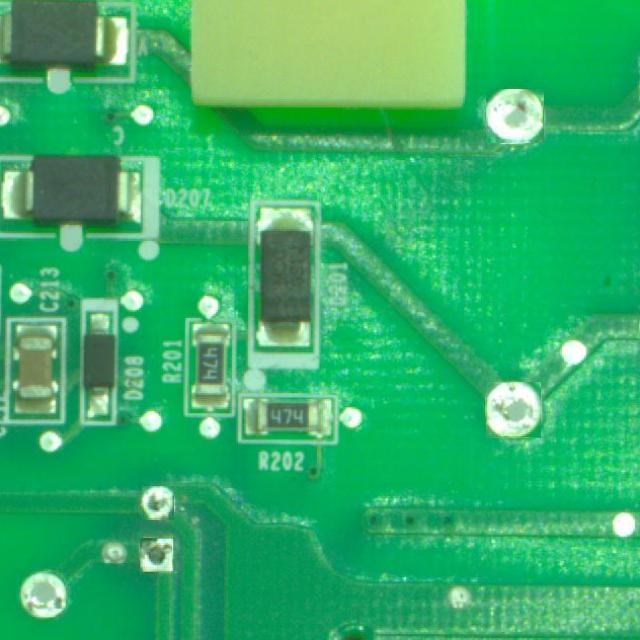oppostie_direction: (486, 383, 541, 437), (486, 90, 544, 141), (20, 572, 66, 618), (141, 538, 172, 572), (142, 487, 174, 519)
